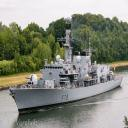Fragata: (10, 13, 125, 116)
